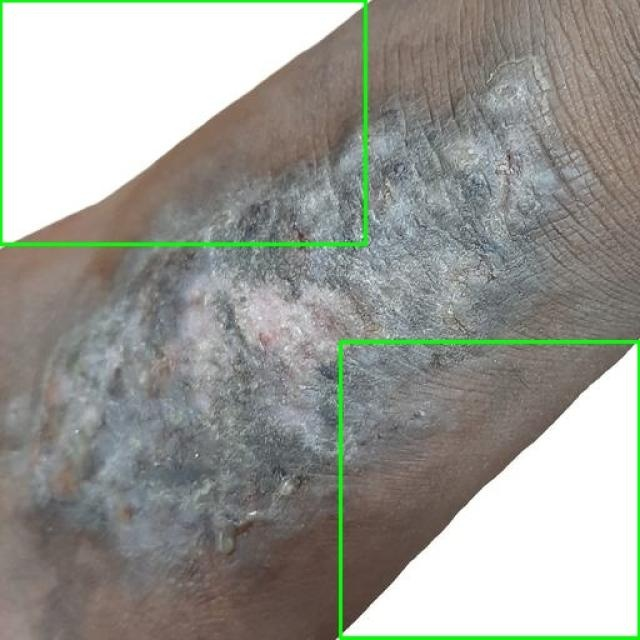Contact Dermatitis: (0, 0, 365, 244), (340, 342, 639, 639)
